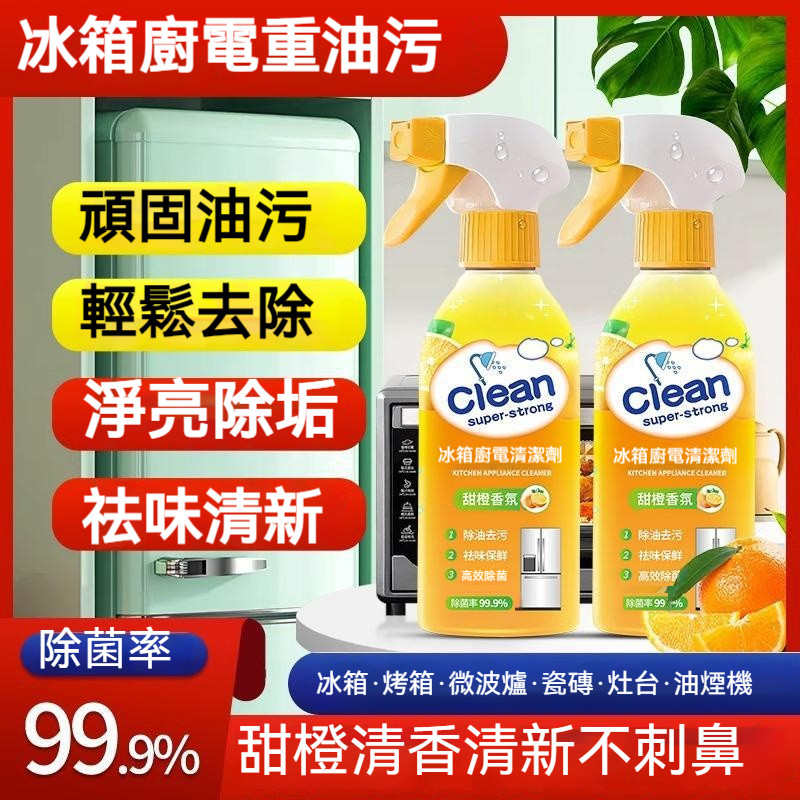cleaner: (553, 106, 784, 638), (371, 110, 587, 644)
